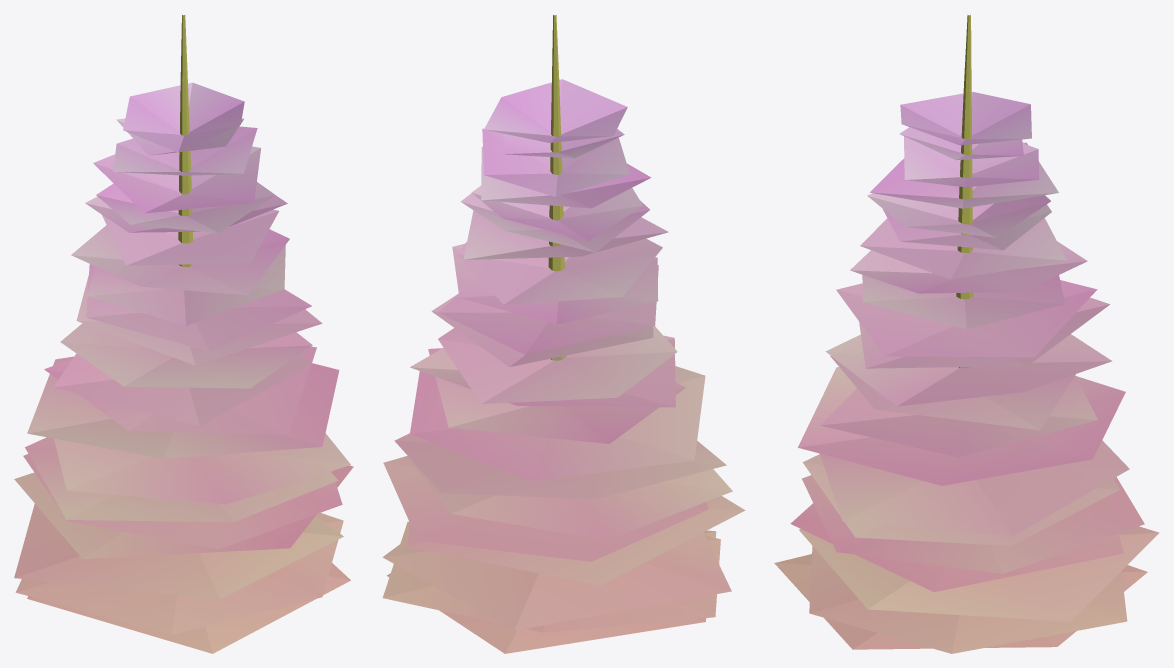
Rendered from tree_spruce_3.glb.
3 views of the same model, side by side, from view 1: azimuth 30°, elevation 25°; view 2: azimuth 150°, elevation 25°; view 3: azimuth 270°, elevation 25° (orthographic). The views are drawn at different scales.
Visible parts, largest first — view 1: tree_spruce_3; view 2: tree_spruce_3; view 3: tree_spruce_3.
Part boxes in pixels (left/top/right/bottom): tree_spruce_3: left=14, top=15, right=353, bottom=653; tree_spruce_3: left=382, top=15, right=745, bottom=653; tree_spruce_3: left=774, top=15, right=1159, bottom=653.
Size of the model in its own units: 6.83 by 11.3 by 6.72.
